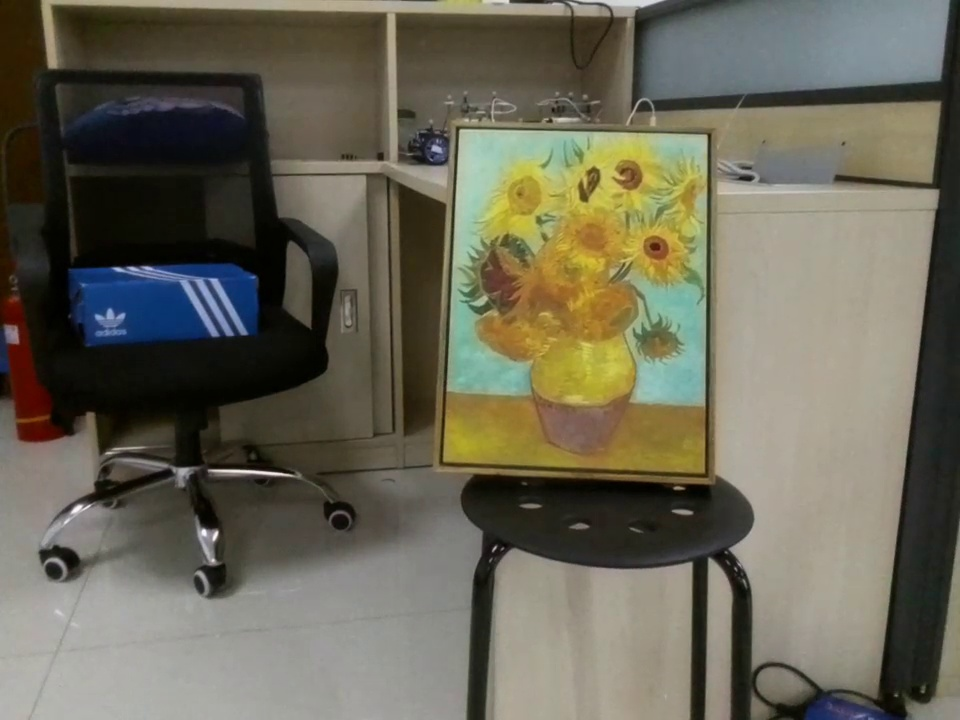painting: (429, 118, 728, 488)
